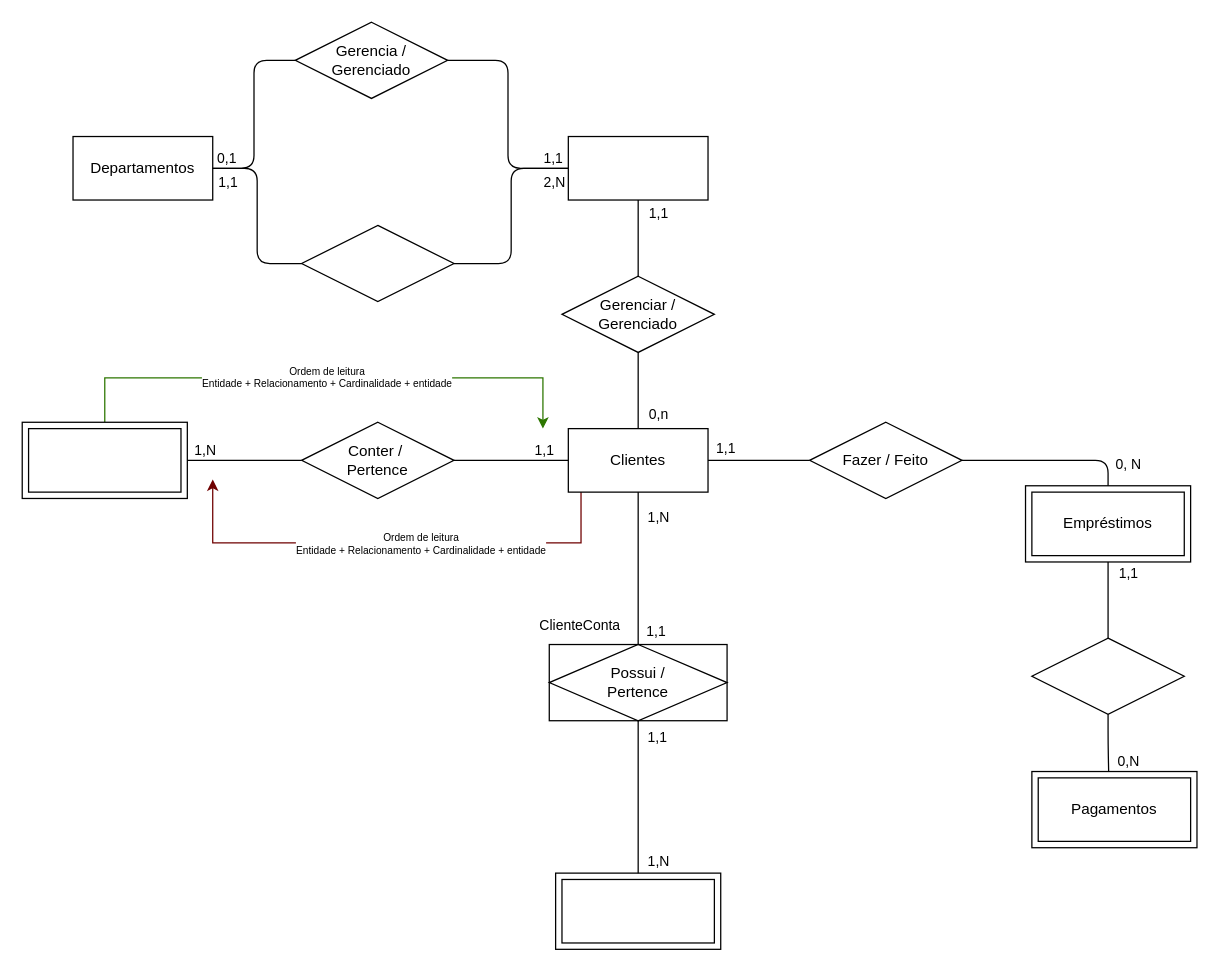
This 1219x972 diagram has some shape labels left out. Here are the shapes that lost their labels. From the top down, the centre of each, then its label:
(x=637, y=167): Colaboradores
(x=377, y=263): Contem / Pertence
(x=104, y=459): Score de Créditos
(x=1107, y=675): Conter / Contido
(x=637, y=910): Conta
